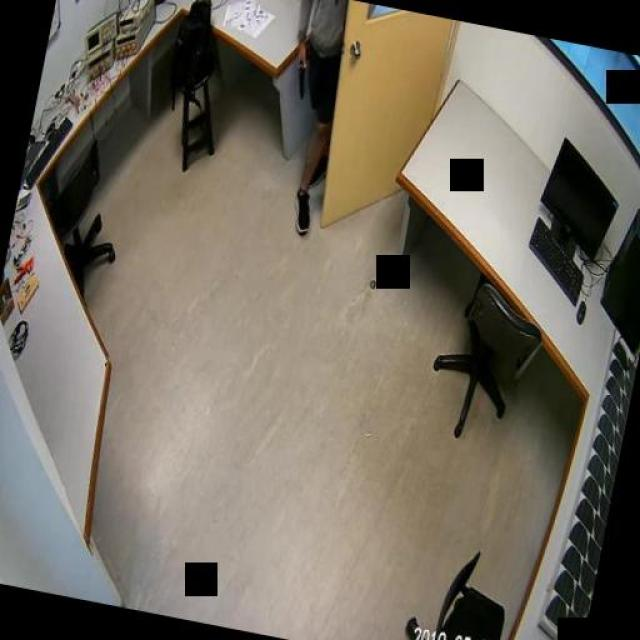gun: (288, 45, 312, 100)
